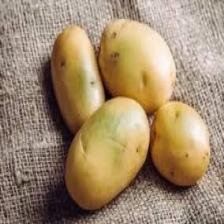Defected potato: (62, 96, 150, 214), (96, 16, 181, 113), (48, 20, 108, 140), (150, 101, 214, 189)
